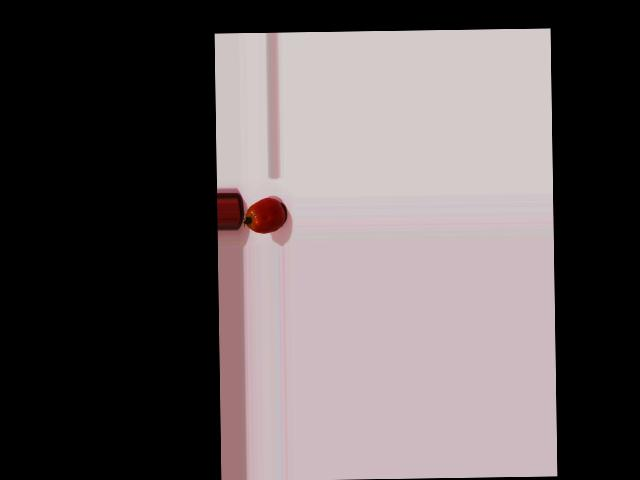tomato: (245, 197, 284, 233)
